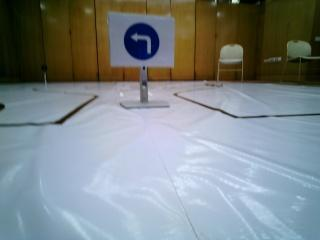left: (110, 11, 176, 66)
